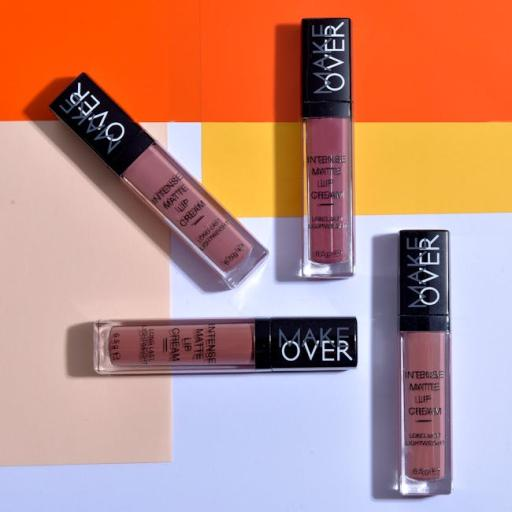lipstick: (51, 74, 267, 287), (94, 318, 357, 374), (399, 231, 452, 495), (302, 19, 354, 278)
